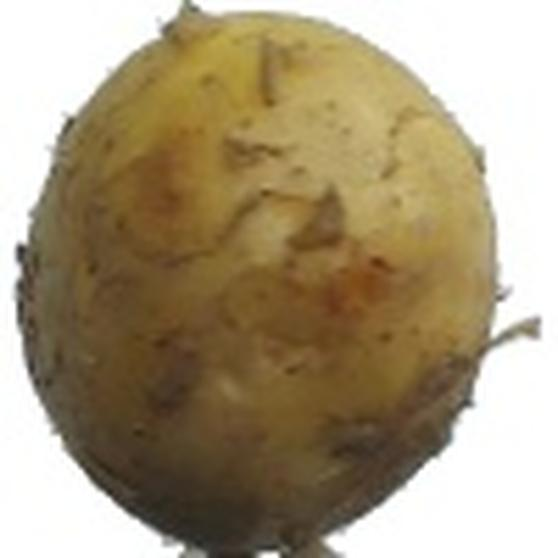potato: (17, 11, 504, 558)
